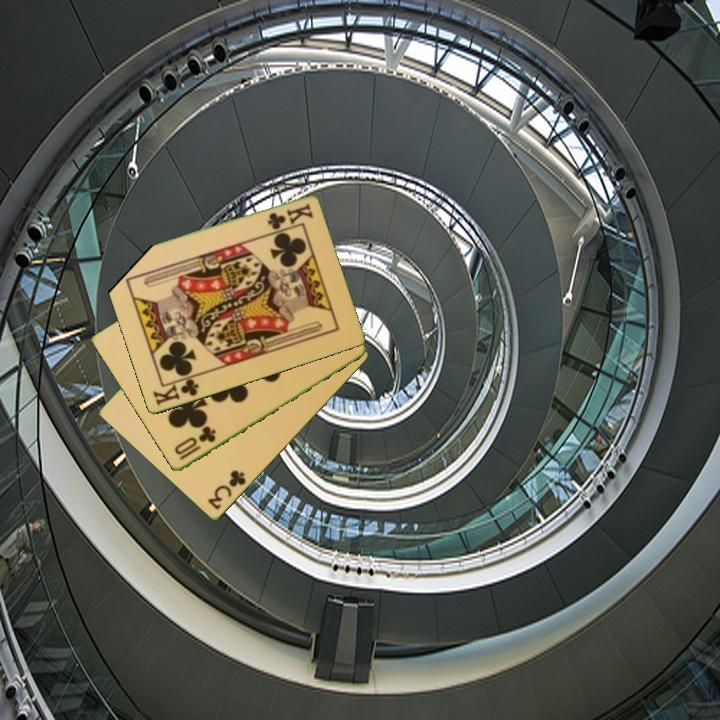10c: (171, 423, 219, 463)
3c: (204, 466, 249, 513)
Kc: (149, 372, 202, 409), (263, 200, 316, 232)
